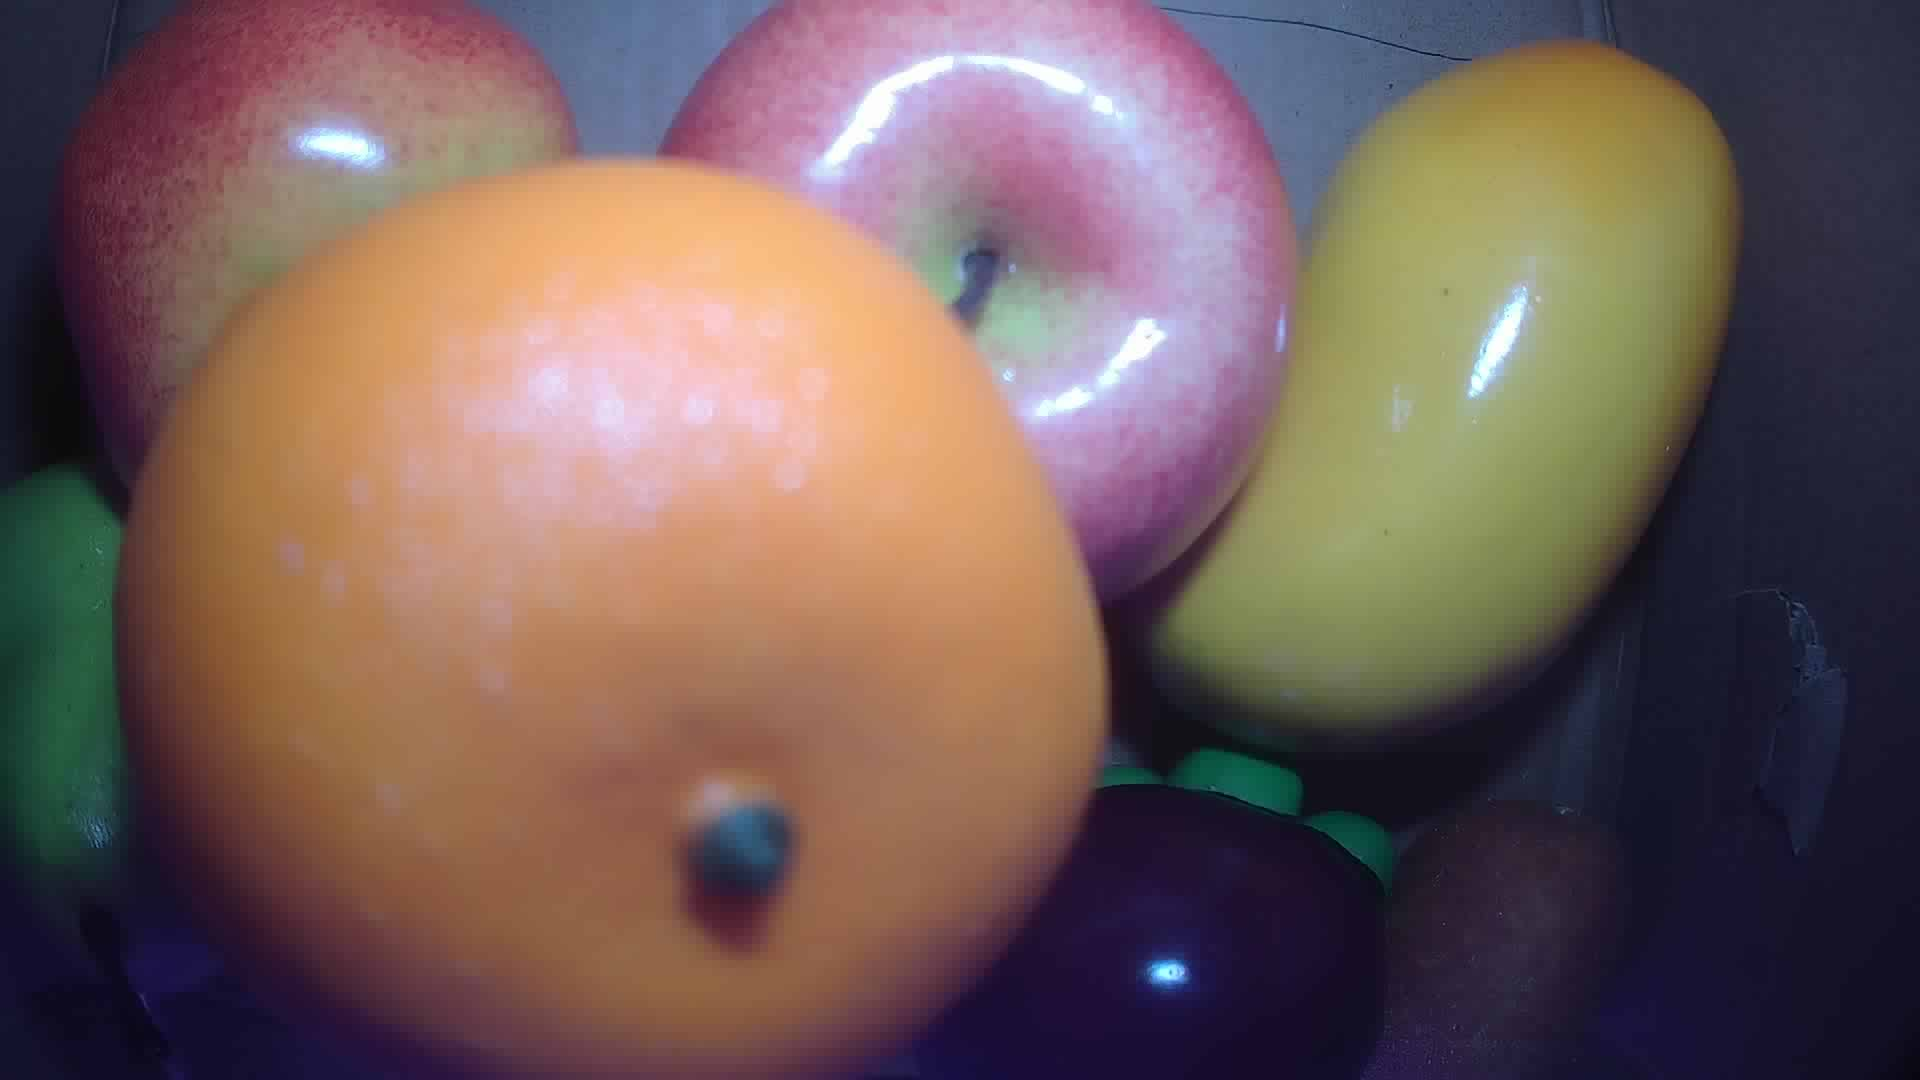apple: (653, 1, 1305, 591)
kiwi: (1387, 796, 1648, 1080)
mango: (1133, 32, 1739, 758)
mangosteen: (918, 746, 1387, 1080)
orange: (104, 152, 1106, 1080)
pear: (1, 454, 148, 909)
pomegranate: (50, 1, 589, 491)
